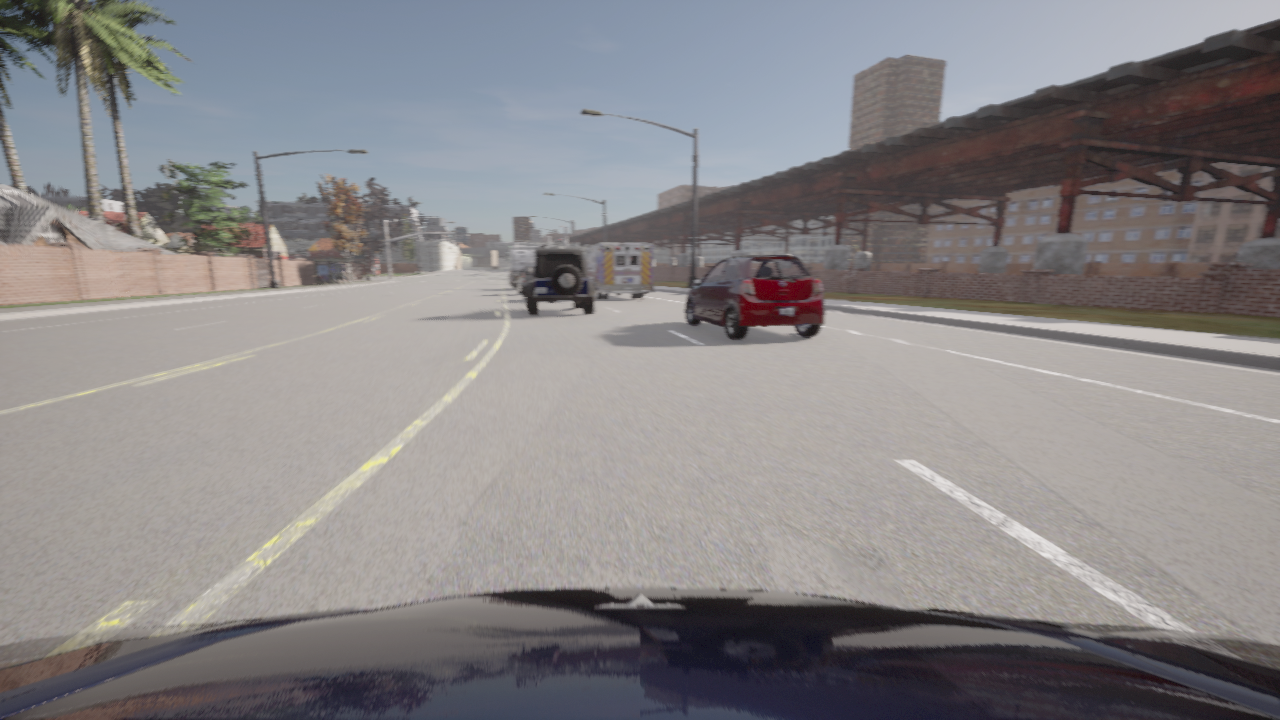cyclist: (0, 588, 1279, 719), (685, 256, 823, 339), (524, 248, 594, 316), (586, 243, 653, 299), (505, 244, 544, 290), (515, 266, 533, 295)
